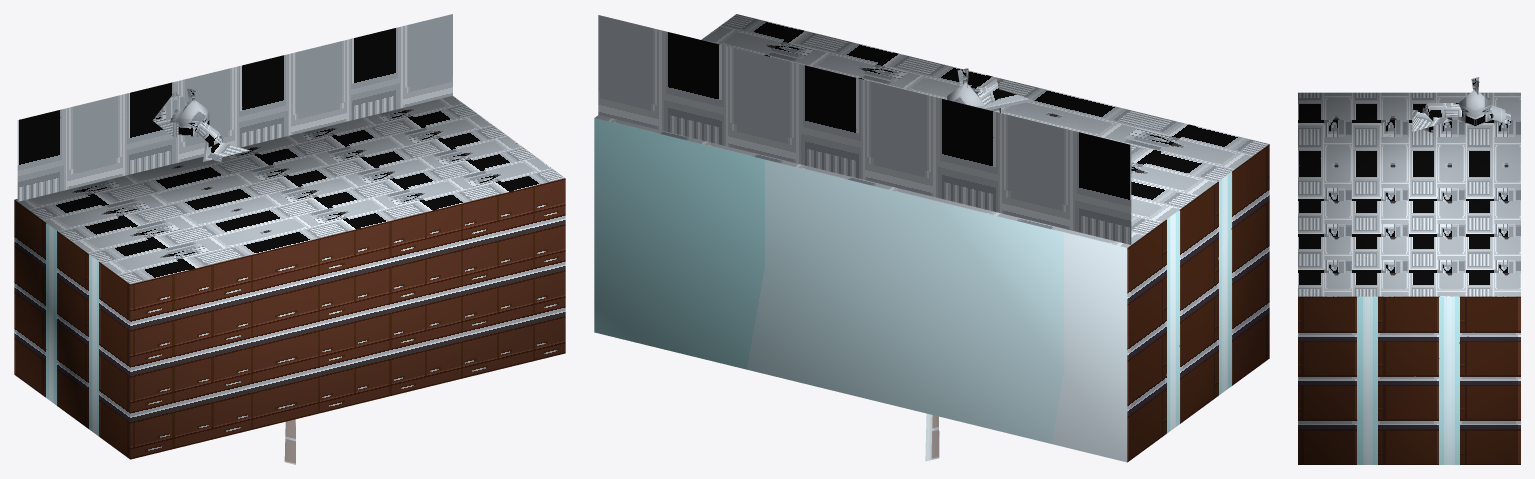
File: 3524IMOT01_05.gltf
3 renders of one model, left to right at view 1: azimuth 30°, elevation 25°; view 2: azimuth 150°, elevation 25°; view 3: azimuth 270°, elevation 25°, orthographic. The views are drawn at different scales.
Visible parts, largest first — view 1: 3524IMOT01_05; view 2: 3524IMOT01_05; view 3: 3524IMOT01_05.
Part boxes in pixels (<box>): 3524IMOT01_05: <box>14,14,565,464</box>; 3524IMOT01_05: <box>594,14,1269,462</box>; 3524IMOT01_05: <box>1298,77,1520,464</box>.
Size of the model in its own units: 1.95 by 1.55 by 0.9001.
Materials: 4 (4 with a texture image).
